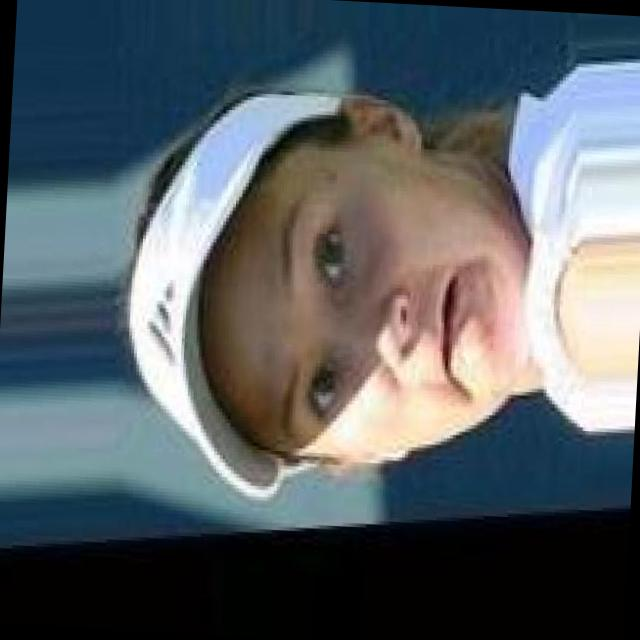bareface: (115, 91, 532, 511)
